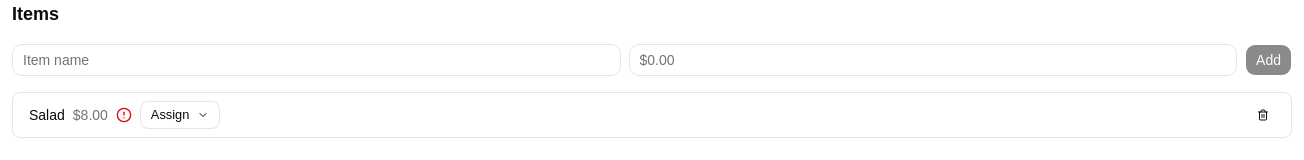
Test: ItemsPanel › removes an item when Remove is clicked
The image size is (1304, 160).
Click the button named "Remove Salad": {"x": 1263, "y": 115} [1251, 103, 1275, 127]
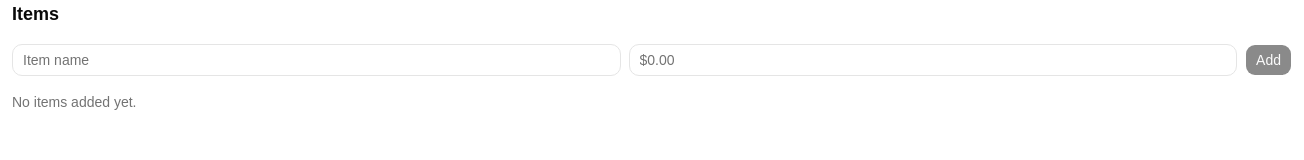
Check: the text "Salad" is gone
